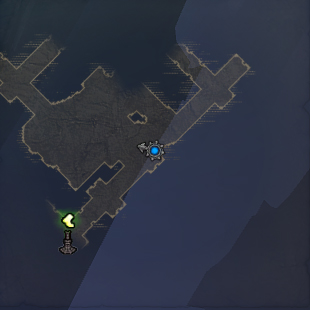SpeedPylon: (59, 212, 78, 255)
